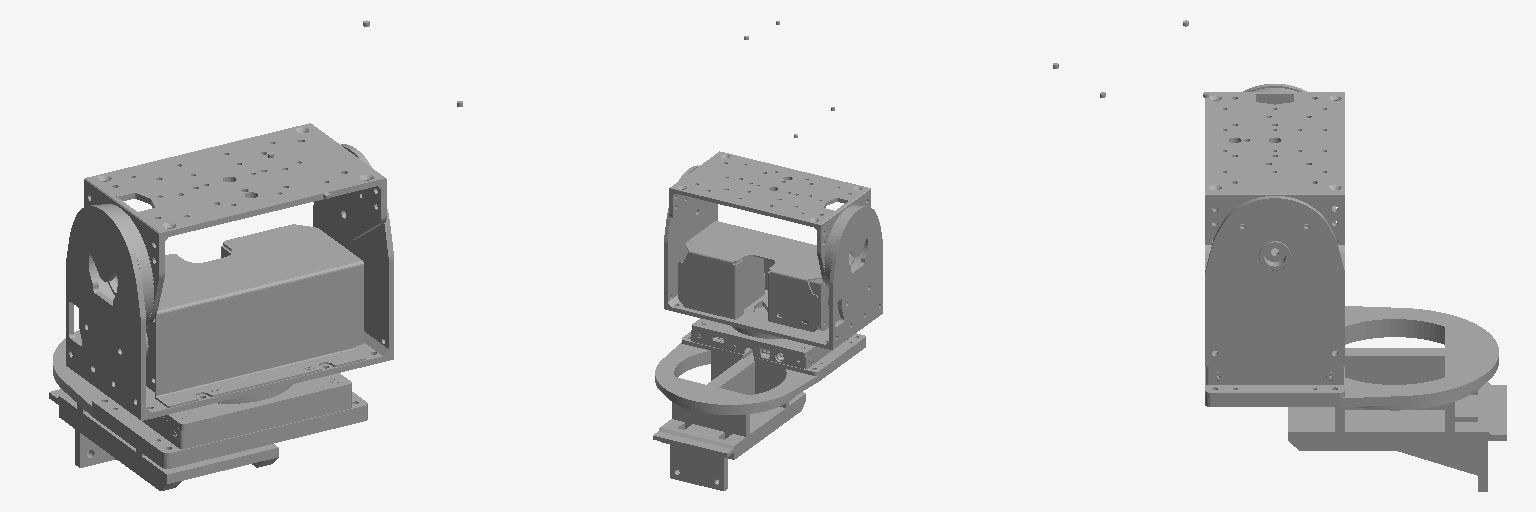
URDF robot description (avt_head_ind_v1):
<?xml version="1.0" ?>
<!-- =================================================================================== -->
<!-- |    This document was autogenerated by xacro from /home/nitish/head_ws/src/avt_head_ind_v1_description/urdf/avt_head_ind_v1.xacro | -->
<!-- |    EDITING THIS FILE BY HAND IS NOT RECOMMENDED                                 | -->
<!-- =================================================================================== -->
<robot name="avt_head_ind_v1">
    <material name="silver">
        <color rgba="0.700 0.700 0.700 1.000" />
    </material>
    <transmission name="head_pan_tran">
        <type>transmission_interface/SimpleTransmission</type>
        <joint name="head_pan">
            <hardwareInterface>hardware_interface/EffortJointInterface</hardwareInterface>
        </joint>
        <actuator name="head_pan_actr">
            <hardwareInterface>hardware_interface/EffortJointInterface</hardwareInterface>
            <mechanicalReduction>1</mechanicalReduction>
        </actuator>
    </transmission>
    <transmission name="head_tilt_tran">
        <type>transmission_interface/SimpleTransmission</type>
        <joint name="head_tilt">
            <hardwareInterface>hardware_interface/EffortJointInterface</hardwareInterface>
        </joint>
        <actuator name="head_tilt_actr">
            <hardwareInterface>hardware_interface/EffortJointInterface</hardwareInterface>
            <mechanicalReduction>1</mechanicalReduction>
        </actuator>
    </transmission>
    <gazebo>
        <plugin filename="libgazebo_ros_control.so" name="control" />
        <plugin name="gazebo_ros_control" filename="libgazebo_ros_control.so">
            <robotNamespace>/</robotNamespace>
        </plugin>
    </gazebo>
    <gazebo reference="base_link">
        <material>Gazebo/Silver</material>
        <mu1>0.2</mu1>
        <mu2>0.2</mu2>
        <selfCollide>true</selfCollide>
        <gravity>true</gravity>
    </gazebo>
    <gazebo reference="pan_tilt_pan_1">
        <material>Gazebo/Silver</material>
        <mu1>0.2</mu1>
        <mu2>0.2</mu2>
        <selfCollide>true</selfCollide>
    </gazebo>
    <gazebo reference="pan_tilt_tilt_1">
        <material>Gazebo/Silver</material>
        <mu1>0.2</mu1>
        <mu2>0.2</mu2>
        <selfCollide>true</selfCollide>
    </gazebo>
    <gazebo reference="avt_gemeni_head_new_1">
        <material>Gazebo/Silver</material>
        <mu1>0.2</mu1>
        <mu2>0.2</mu2>
        <selfCollide>true</selfCollide>
    </gazebo>
    <gazebo reference="femto_head_frame_1">
        <material>Gazebo/Silver</material>
        <mu1>0.2</mu1>
        <mu2>0.2</mu2>
        <selfCollide>true</selfCollide>
    </gazebo>
    <gazebo reference="gemeni_head_frame_1">
        <material>Gazebo/Silver</material>
        <mu1>0.2</mu1>
        <mu2>0.2</mu2>
        <selfCollide>true</selfCollide>
    </gazebo>
    <gazebo reference="femto_old_frame_1">
        <material>Gazebo/Silver</material>
        <mu1>0.2</mu1>
        <mu2>0.2</mu2>
        <selfCollide>true</selfCollide>
    </gazebo>
    <gazebo reference="zedx_head_frame_1">
        <material>Gazebo/Silver</material>
        <mu1>0.2</mu1>
        <mu2>0.2</mu2>
        <selfCollide>true</selfCollide>
    </gazebo>
    <gazebo reference="pan_tilt_base_1">
        <material>Gazebo/Silver</material>
        <mu1>0.2</mu1>
        <mu2>0.2</mu2>
        <selfCollide>true</selfCollide>
    </gazebo>
    <link name="base_link">
        <inertial>
            <origin rpy="0 0 0" xyz="-3.009610798673264e-07 -0.010500063457651691 -0.013350268954853266" />
            <mass value="1.2315026586535276" />
            <inertia ixx="0.002182" ixy="-0.0" ixz="0.0" iyy="0.001056" iyz="0.000342" izz="0.002563" />
        </inertial>
        <visual>
            <origin rpy="0 0 0" xyz="0 0 0" />
            <geometry>
                <mesh filename="package://avt_head_ind_v1_description/meshes/base_link.stl" scale="0.001 0.001 0.001" />
            </geometry>
            <material name="silver" />
        </visual>
        <collision>
            <origin rpy="0 0 0" xyz="0 0 0" />
            <geometry>
                <mesh filename="package://avt_head_ind_v1_description/meshes/base_link.stl" scale="0.001 0.001 0.001" />
            </geometry>
        </collision>
    </link>
    <link name="head_pan">
        <inertial>
            <origin rpy="0 0 0" xyz="0.0033486622953304277 0.00016170130435674834 0.030540410524209916" />
            <mass value="1.7305634465902506" />
            <inertia ixx="0.001057" ixy="-1.5e-05" ixz="1.7e-05" iyy="0.003745" iyz="-1.3e-05" izz="0.003559" />
        </inertial>
        <visual>
            <origin rpy="0 0 0" xyz="0.0 0.06 -0.02101" />
            <geometry>
                <mesh filename="package://avt_head_ind_v1_description/meshes/head_pan.stl" scale="0.001 0.001 0.001" />
            </geometry>
            <material name="silver" />
        </visual>
        <collision>
            <origin rpy="0 0 0" xyz="0.0 0.06 -0.02101" />
            <geometry>
                <mesh filename="package://avt_head_ind_v1_description/meshes/head_pan.stl" scale="0.001 0.001 0.001" />
            </geometry>
        </collision>
    </link>
    <link name="head_tilt">
        <inertial>
            <origin rpy="0 0 0" xyz="-0.07940004643477025 4.251860373876565e-05 0.01623183402164488" />
            <mass value="0.4129213981342676" />
            <inertia ixx="0.000283" ixy="-0.0" ixz="-0.000148" iyy="0.001074" iyz="-0.0" izz="0.001094" />
        </inertial>
        <visual>
            <origin rpy="0 0 0" xyz="-0.064 0.06 -0.09001" />
            <geometry>
                <mesh filename="package://avt_head_ind_v1_description/meshes/head_tilt.stl" scale="0.001 0.001 0.001" />
            </geometry>
            <material name="silver" />
        </visual>
        <collision>
            <origin rpy="0 0 0" xyz="-0.064 0.06 -0.09001" />
            <geometry>
                <mesh filename="package://avt_head_ind_v1_description/meshes/head_tilt.stl" scale="0.001 0.001 0.001" />
            </geometry>
        </collision>
    </link>
    <link name="avt_head_v2">
        <inertial>
            <origin rpy="0 0 0" xyz="-2.453268079950184e-06 0.00018417675387515098 0.04667409519918771" />
            <mass value="1.959343903866988" />
            <inertia ixx="0.003674" ixy="0.0" ixz="-0.0" iyy="0.00597" iyz="0.000681" izz="0.005816" />
        </inertial>
        <visual>
            <origin rpy="0 0 0" xyz="0.0 0.06 -0.12201" />
            <geometry>
                <mesh filename="package://avt_head_ind_v1_description/meshes/avt_head_v2.stl" scale="0.001 0.001 0.001" />
            </geometry>
            <material name="silver" />
        </visual>
        <collision>
            <origin rpy="0 0 0" xyz="0.0 0.06 -0.12201" />
            <geometry>
                <mesh filename="package://avt_head_ind_v1_description/meshes/avt_head_v2.stl" scale="0.001 0.001 0.001" />
            </geometry>
        </collision>
    </link>
    <link name="femto_frame_v2">
        <inertial>
            <origin rpy="0 0 0" xyz="-6.335905158357663e-06 0.00010593271343117827 -0.0009943213313897137" />
            <mass value="0.00011097676048806423" />
            <inertia ixx="0.0" ixy="-0.0" ixz="0.0" iyy="0.0" iyz="-0.0" izz="0.0" />
        </inertial>
        <visual>
            <origin rpy="0 0 0" xyz="-0.00203 0.0946 -0.14901" />
            <geometry>
                <mesh filename="package://avt_head_ind_v1_description/meshes/femto_frame_v2.stl" scale="0.001 0.001 0.001" />
            </geometry>
            <material name="silver" />
        </visual>
        <collision>
            <origin rpy="0 0 0" xyz="-0.00203 0.0946 -0.14901" />
            <geometry>
                <mesh filename="package://avt_head_ind_v1_description/meshes/femto_frame_v2.stl" scale="0.001 0.001 0.001" />
            </geometry>
        </collision>
    </link>
    <link name="gemini_head_frame_v2">
        <inertial>
            <origin rpy="0 0 0" xyz="0.04749999999988658 -0.0119800052904432 0.015104101675612547" />
            <mass value="0.00011097676048806423" />
            <inertia ixx="0.0" ixy="0.0" ixz="0.0" iyy="0.0" iyz="-0.0" izz="0.0" />
        </inertial>
        <visual>
            <origin rpy="0 0 0" xyz="0.0 0.092663 -0.193667" />
            <geometry>
                <mesh filename="package://avt_head_ind_v1_description/meshes/gemini_head_frame_v2.stl" scale="0.001 0.001 0.001" />
            </geometry>
            <material name="silver" />
        </visual>
        <collision>
            <origin rpy="0 0 0" xyz="0.0 0.092663 -0.193667" />
            <geometry>
                <mesh filename="package://avt_head_ind_v1_description/meshes/gemini_head_frame_v2.stl" scale="0.001 0.001 0.001" />
            </geometry>
        </collision>
    </link>
    <link name="femto_frame_v1">
        <inertial>
            <origin rpy="0 0 0" xyz="-6.39788786389742e-06 0.00010696903151230508 -0.0010040489080138382" />
            <mass value="0.00011097676048807231" />
            <inertia ixx="0.0" ixy="-0.0" ixz="0.0" iyy="0.0" iyz="-0.0" izz="0.0" />
        </inertial>
        <visual>
            <origin rpy="0 0 0" xyz="-0.00203 0.14645 -0.14901" />
            <geometry>
                <mesh filename="package://avt_head_ind_v1_description/meshes/femto_frame_v1.stl" scale="0.001 0.001 0.001" />
            </geometry>
            <material name="silver" />
        </visual>
        <collision>
            <origin rpy="0 0 0" xyz="-0.00203 0.14645 -0.14901" />
            <geometry>
                <mesh filename="package://avt_head_ind_v1_description/meshes/femto_frame_v1.stl" scale="0.001 0.001 0.001" />
            </geometry>
        </collision>
    </link>
    <link name="head_base">
        <inertial>
            <origin rpy="0 0 0" xyz="0.00012109625251506097 0.0013089594485845152 0.007614994677166102" />
            <mass value="0.3989981505309856" />
            <inertia ixx="0.000211" ixy="-2e-06" ixz="0.0" iyy="0.000393" iyz="-1e-06" izz="0.000576" />
        </inertial>
        <visual>
            <origin rpy="0 0 0" xyz="0.0 0.06 -0.005" />
            <geometry>
                <mesh filename="package://avt_head_ind_v1_description/meshes/head_base.stl" scale="0.001 0.001 0.001" />
            </geometry>
            <material name="silver" />
        </visual>
        <collision>
            <origin rpy="0 0 0" xyz="0.0 0.06 -0.005" />
            <geometry>
                <mesh filename="package://avt_head_ind_v1_description/meshes/head_base.stl" scale="0.001 0.001 0.001" />
            </geometry>
        </collision>
    </link>
    <link name="zedx_frame_v1">
        <inertial>
            <origin rpy="0 0 0" xyz="-1.501437862927446e-13 1.9724727406966736e-10 -0.0009999998718479564" />
            <mass value="0.00011097676048806388" />
            <inertia ixx="0.0" ixy="0.0" ixz="0.0" iyy="0.0" iyz="0.0" izz="0.0" />
        </inertial>
        <visual>
            <origin rpy="0 0 0" xyz="-0.06 0.17 -0.19223" />
            <geometry>
                <mesh filename="package://avt_head_ind_v1_description/meshes/zedx_frame_v1.stl" scale="0.001 0.001 0.001" />
            </geometry>
            <material name="silver" />
        </visual>
        <collision>
            <origin rpy="0 0 0" xyz="-0.06 0.17 -0.19223" />
            <geometry>
                <mesh filename="package://avt_head_ind_v1_description/meshes/zedx_frame_v1.stl" scale="0.001 0.001 0.001" />
            </geometry>
        </collision>
    </link>
    <joint name="pan_tilt_yaw_joint" type="revolute">
        <origin rpy="0 0 0" xyz="0.0 0.0 0.01601" />
        <parent link="head_base" />
        <child link="head_pan" />
        <axis xyz="0.0 0.0 1.0" />
        <limit effort="100" lower="-1.047198" upper="1.047198" velocity="100" />
    </joint>
    <joint name="pan_tilt_pitch_joint" type="revolute">
        <origin rpy="0 0 0" xyz="0.064 0.0 0.069" />
        <parent link="head_pan" />
        <child link="head_tilt" />
        <axis xyz="1.0 0.0 0.0" />
        <limit effort="100" lower="-1.047198" upper="1.047198" velocity="100" />
    </joint>
    <joint name="head_base_joint" type="fixed">
        <origin rpy="0 0 0" xyz="-0.064 0.0 0.032" />
        <parent link="head_tilt" />
        <child link="avt_head_v2" />
    </joint>
    <joint name="femto_frame_v2_joint" type="fixed">
        <origin rpy="0 0 0" xyz="0.00203 -0.0346 0.027" />
        <parent link="avt_head_v2" />
        <child link="femto_frame_v2" />
    </joint>
    <joint name="gemini_frame_v2_joint" type="fixed">
        <origin rpy="0 0 0" xyz="0.0 -0.032663 0.071657" />
        <parent link="avt_head_v2" />
        <child link="gemini_head_frame_v2" />
    </joint>
    <joint name="femto_frame_v1_joint" type="fixed">
        <origin rpy="0 0 0" xyz="0.00203 -0.08645 0.027" />
        <parent link="avt_head_v2" />
        <child link="femto_frame_v1" />
    </joint>
    <joint name="zedx_frame_v1_joint" type="fixed">
        <origin rpy="0 0 0" xyz="0.06 -0.11 0.07022" />
        <parent link="avt_head_v2" />
        <child link="zedx_frame_v1" />
    </joint>
    <joint name="head_base_frame_joint" type="fixed">
        <origin rpy="0 0 0" xyz="0.0 -0.06 0.005" />
        <parent link="base_link" />
        <child link="head_base" />
    </joint>
    <transmission name="trans_pan_tilt_yaw_joint">
        <type>transmission_interface/SimpleTransmission</type>
        <joint name="pan_tilt_yaw_joint">
            <hardwareInterface>hardware_interface/EffortJointInterface</hardwareInterface>
        </joint>
        <actuator name="pan_tilt_yaw_joint_motor">
            <hardwareInterface>hardware_interface/EffortJointInterface</hardwareInterface>
            <mechanicalReduction>1</mechanicalReduction>
        </actuator>
    </transmission>
    <transmission name="trans_pan_tilt_pitch_joint">
        <type>transmission_interface/SimpleTransmission</type>
        <joint name="pan_tilt_pitch_joint">
            <hardwareInterface>hardware_interface/EffortJointInterface</hardwareInterface>
        </joint>
        <actuator name="pan_tilt_pitch_joint_motor">
            <hardwareInterface>hardware_interface/EffortJointInterface</hardwareInterface>
            <mechanicalReduction>1</mechanicalReduction>
        </actuator>
    </transmission>
</robot>

--- What the picture shows (computed from the rendered views, not written in the file) ---
The picture shows the robot from 3 angles, left to right: view 1: azimuth 30°, elevation 25°; view 2: azimuth 150°, elevation 25°; view 3: azimuth 270°, elevation 25°; orthographic projection.
Model avt_head_ind_v1 with 9 links and 8 joints (2 revolute, 6 fixed), rooted at base_link, posed all joints at 0.
Visible links, largest first — view 1: head_pan, head_tilt, head_base, base_link; view 2: head_pan, base_link, head_tilt, head_base; view 3: base_link, head_pan, head_tilt, head_base.
Boxes of the visible links, x1,y1,x2,y2 form: head_pan: [66, 144, 393, 420]; head_tilt: [84, 123, 386, 328]; head_base: [92, 373, 367, 458]; base_link: [49, 330, 367, 490]; head_pan: [664, 165, 882, 349]; base_link: [653, 341, 865, 490]; head_tilt: [669, 151, 870, 287]; head_base: [682, 307, 865, 375]; base_link: [1205, 306, 1506, 491]; head_pan: [1205, 84, 1344, 366]; head_tilt: [1205, 92, 1344, 261]; head_base: [1205, 367, 1344, 397].
Bounding box of the posed robot: 0.137 × 0.228 × 0.2718 m (x, y, z).
8 mesh visuals loaded from 9 distinct referenced files (8 binary STL); not drawn: 1 (reference not matched to a file when rendering).
